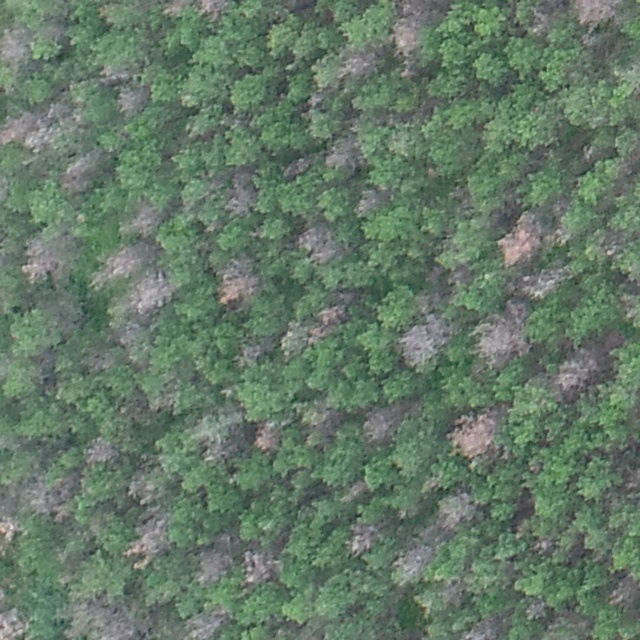unhealthy: (473, 306, 527, 369), (396, 314, 455, 371), (66, 595, 138, 638), (448, 410, 500, 462), (22, 230, 74, 281), (552, 347, 599, 400), (499, 214, 544, 268), (22, 474, 73, 520), (93, 242, 147, 285), (21, 108, 74, 151), (126, 513, 169, 565), (216, 256, 259, 307), (512, 266, 568, 302), (295, 223, 344, 264), (391, 6, 427, 60), (132, 272, 180, 312), (59, 152, 103, 195), (361, 403, 403, 445), (435, 491, 477, 532), (337, 44, 382, 81), (196, 543, 234, 585), (123, 199, 164, 237), (393, 543, 434, 580), (184, 605, 227, 639), (311, 301, 349, 339), (240, 549, 279, 586), (225, 175, 257, 217), (607, 569, 640, 609), (0, 26, 32, 66), (324, 138, 364, 170), (571, 0, 620, 26), (125, 470, 162, 504), (347, 520, 381, 556), (199, 433, 237, 465), (0, 112, 33, 148), (235, 334, 273, 365), (527, 1, 560, 36), (458, 614, 502, 640), (118, 85, 149, 117), (439, 576, 469, 608), (254, 418, 281, 453), (85, 436, 118, 464), (0, 608, 29, 639), (280, 153, 315, 178), (113, 320, 143, 348), (97, 63, 135, 85), (83, 347, 116, 372), (0, 511, 18, 553), (354, 188, 381, 216), (42, 20, 69, 44), (193, 0, 226, 18), (529, 535, 555, 556), (162, 0, 192, 18), (523, 599, 547, 621), (345, 478, 366, 501), (624, 463, 640, 492), (602, 328, 625, 347), (0, 582, 10, 609)
